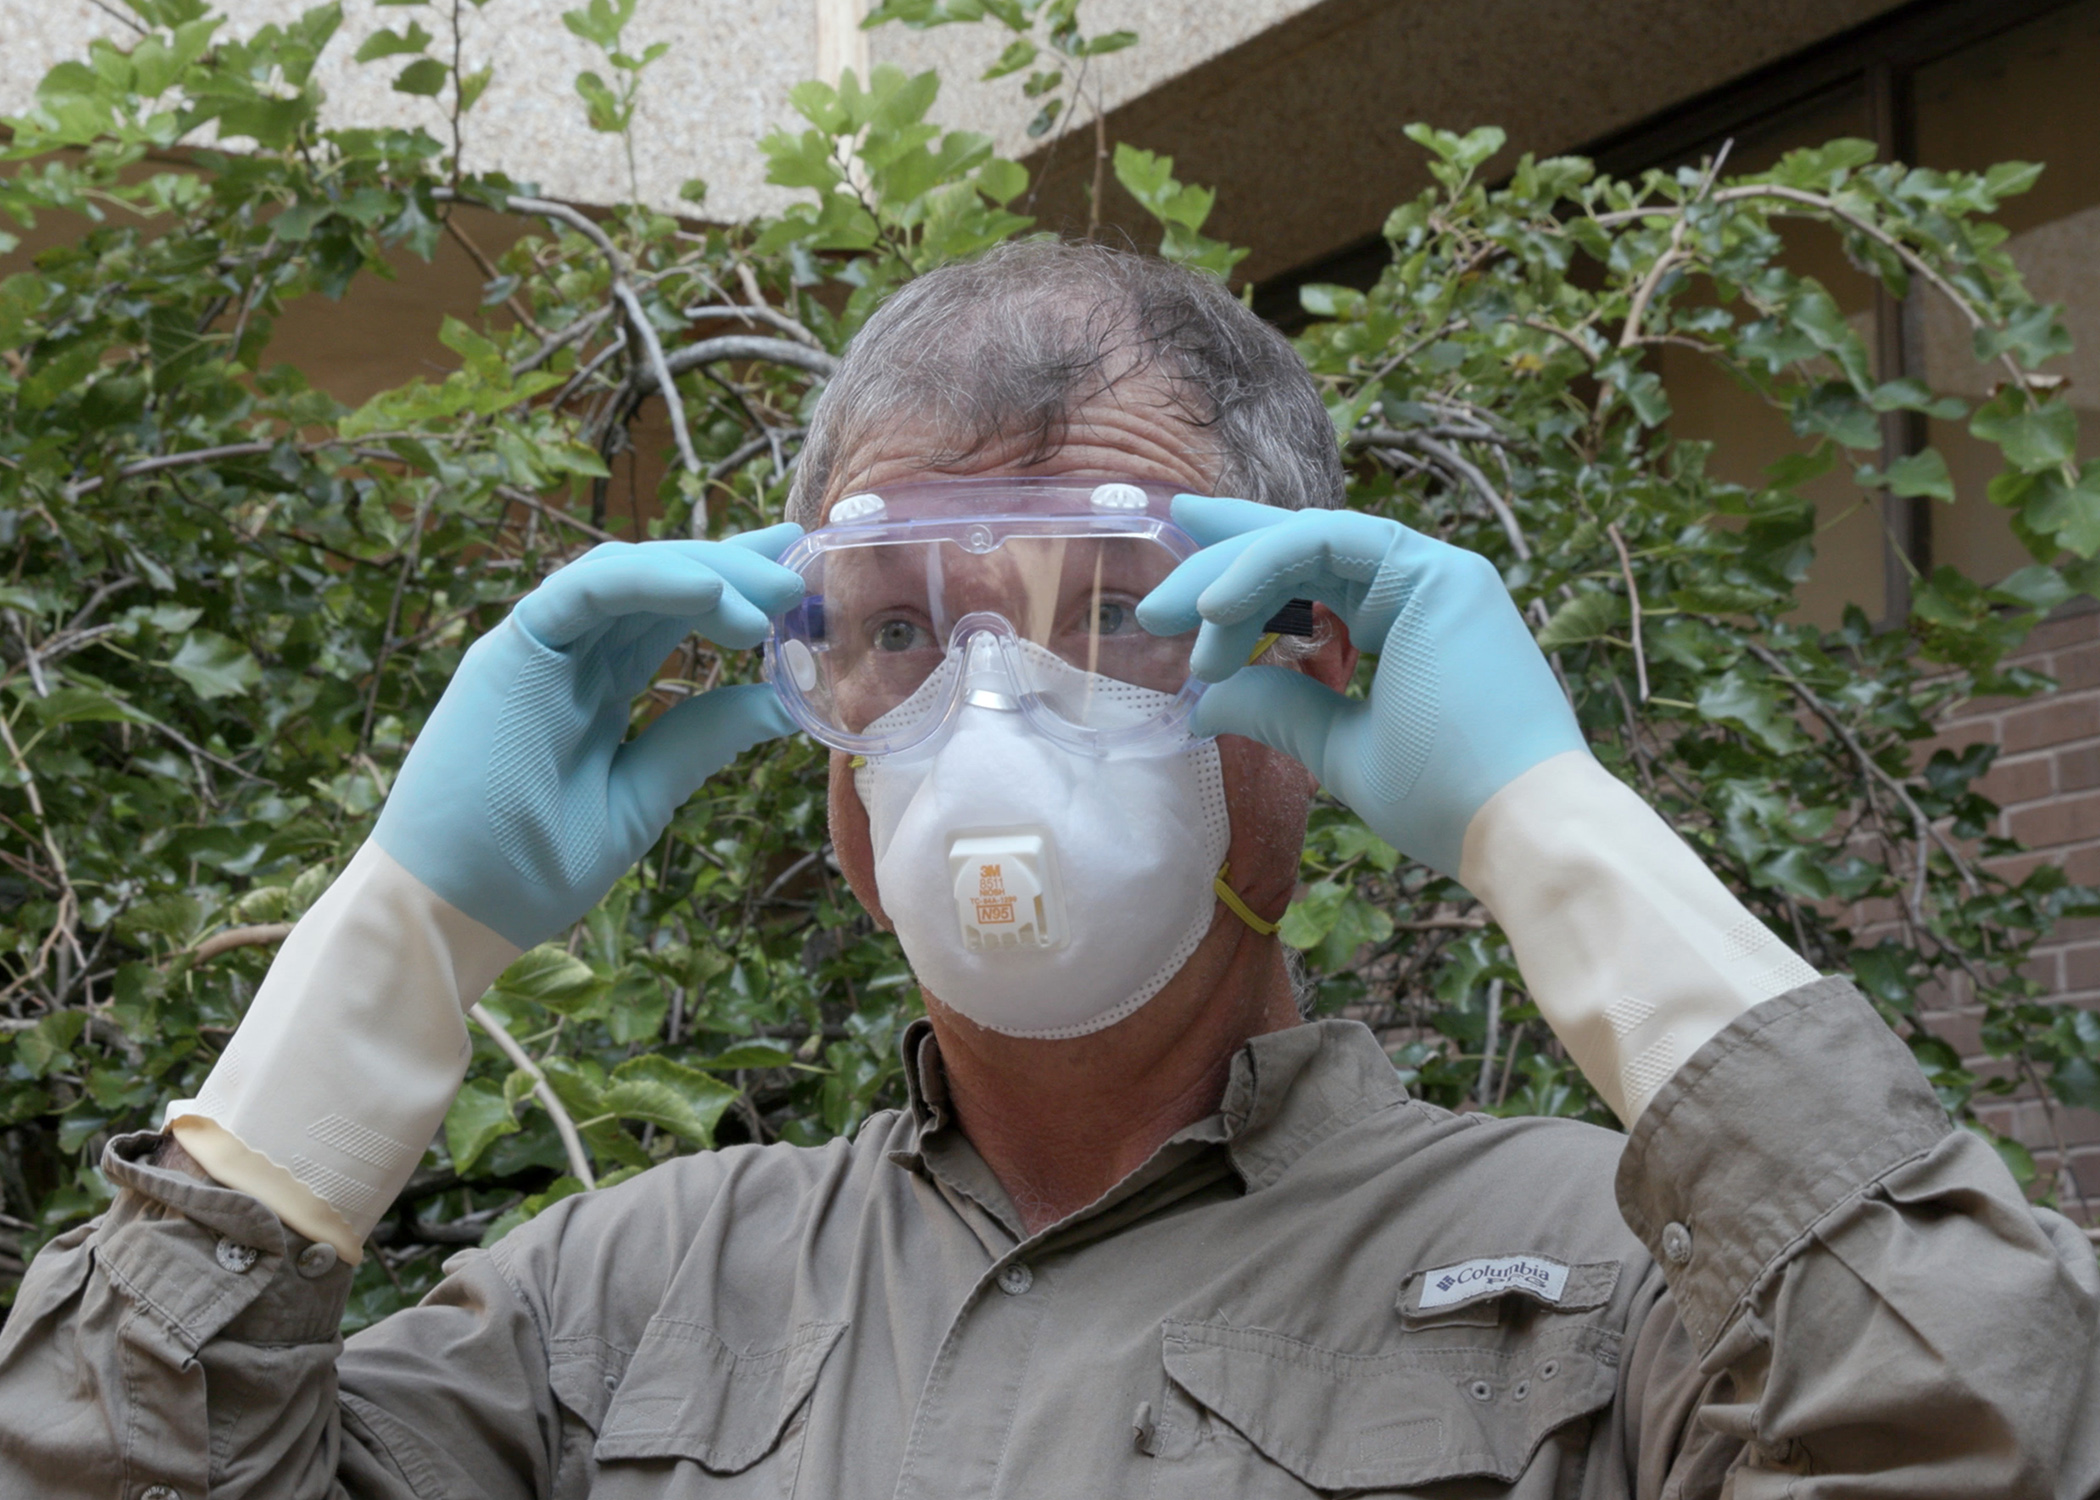n95: (800, 648, 1247, 1039)
